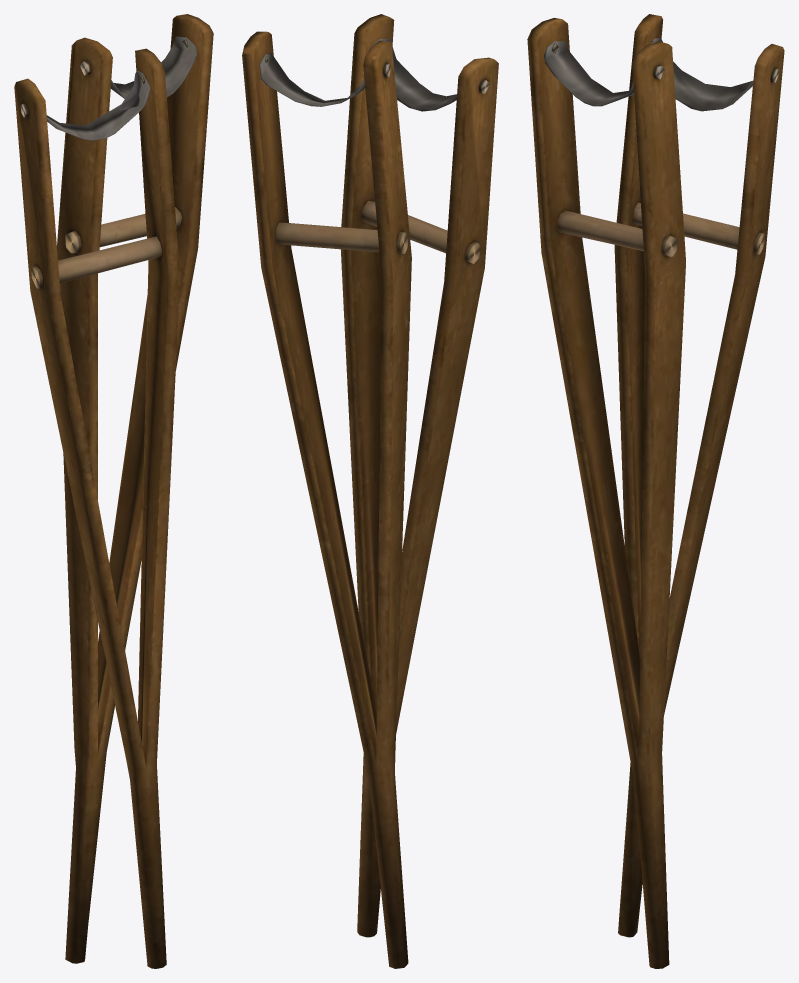
The model's file is crutches.glb.
The picture shows the model from 3 angles, left to right: view 1: azimuth 30°, elevation 25°; view 2: azimuth 150°, elevation 25°; view 3: azimuth 330°, elevation 25°; orthographic projection.
Visible parts, largest first — view 1: vintage_crutches_01_crutch01; view 2: vintage_crutches_01_crutch01; view 3: vintage_crutches_01_crutch01.
Part boxes in pixels (bbox=[...]): vintage_crutches_01_crutch01: bbox=[14, 14, 213, 968]; vintage_crutches_01_crutch01: bbox=[242, 14, 498, 968]; vintage_crutches_01_crutch01: bbox=[527, 14, 784, 968].
Size of the model in its own units: 0.3831 by 1.6 by 0.2011.
1 material, 1 textured.
